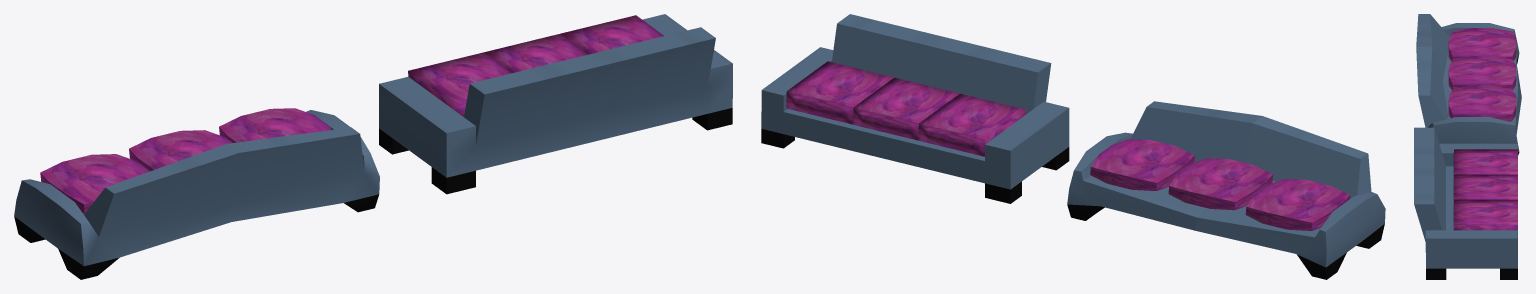
The model's file is Couch 1.fbx.
3 renders of one model, left to right at view 1: azimuth 30°, elevation 25°; view 2: azimuth 150°, elevation 25°; view 3: azimuth 270°, elevation 25°, orthographic. The views are drawn at different scales.
Parts seen in each view (by area): view 1: pasted__pCube3, pasted__pCube9, pasted__pCube19, pasted__pCube15, pasted__pCube13, pasted__pCube18, pasted__pCube17, pasted__pCube16; view 2: pasted__pCube3, pasted__pCube9, pasted__pCube15, pasted__pCube18, pasted__pCube13, pasted__pCube17, pasted__pCube19, pasted__pCube16; view 3: pasted__pCube3, pasted__pCube9, pasted__pCube13, pasted__pCube17, pasted__pCube18, pasted__pCube19, pasted__pCube15, pasted__pCube16.
Part boxes in pixels (left/top/right/bottom): pasted__pCube3: left=379, top=14, right=732, bottom=194; pasted__pCube9: left=14, top=110, right=379, bottom=279; pasted__pCube19: left=40, top=154, right=149, bottom=213; pasted__pCube15: left=408, top=52, right=511, bottom=116; pasted__pCube13: left=219, top=108, right=331, bottom=142; pasted__pCube18: left=129, top=130, right=232, bottom=171; pasted__pCube17: left=560, top=15, right=663, bottom=54; pasted__pCube16: left=483, top=34, right=587, bottom=72; pasted__pCube3: left=761, top=14, right=1069, bottom=203; pasted__pCube9: left=1067, top=101, right=1385, bottom=279; pasted__pCube15: left=918, top=93, right=1025, bottom=156; pasted__pCube18: left=1168, top=158, right=1273, bottom=210; pasted__pCube13: left=1090, top=139, right=1194, bottom=190; pasted__pCube17: left=786, top=61, right=893, bottom=124; pasted__pCube19: left=1245, top=179, right=1350, bottom=230; pasted__pCube16: left=853, top=77, right=959, bottom=140; pasted__pCube3: left=1414, top=127, right=1517, bottom=279; pasted__pCube9: left=1416, top=14, right=1521, bottom=155; pasted__pCube13: left=1448, top=85, right=1516, bottom=121; pasted__pCube17: left=1453, top=199, right=1517, bottom=230; pasted__pCube18: left=1448, top=56, right=1516, bottom=90; pasted__pCube19: left=1448, top=28, right=1516, bottom=61; pasted__pCube15: left=1453, top=149, right=1517, bottom=177; pasted__pCube16: left=1453, top=174, right=1517, bottom=202.
Bounding box in the file's own units: 1672 × 243 × 352.
Materials: 2 (2 with a texture image).
